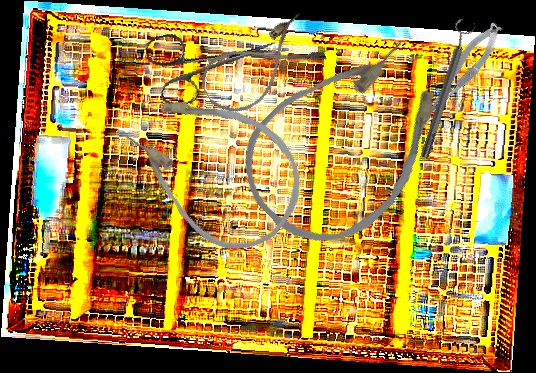Cannula: (218, 12, 479, 272), (106, 63, 324, 271), (192, 9, 330, 124)
Fixation Ring: (412, 17, 479, 161)
Iris Scissors: (143, 9, 284, 111)
Micro Scissor: (409, 18, 512, 126)
